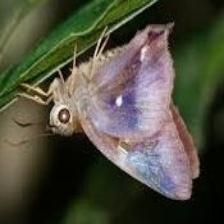butterfly: (24, 23, 200, 200)
